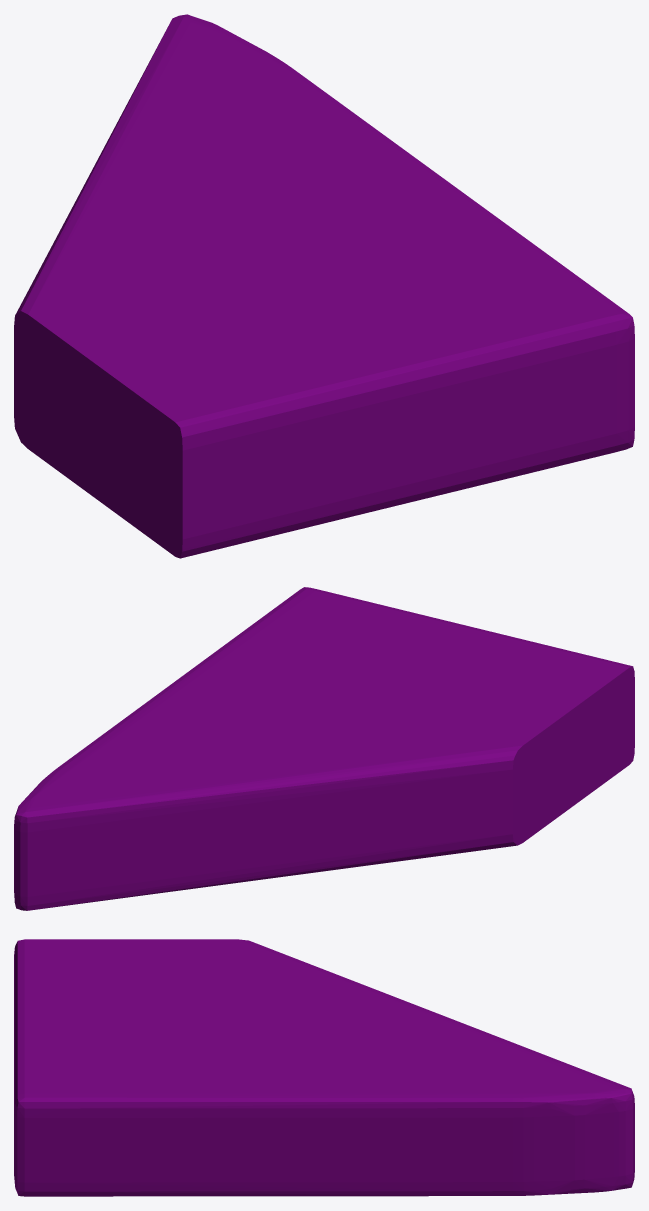
Rendered from left_hip_pitch_link_part_11.obj.
3 views of the same model, one above another, from view 1: azimuth 30°, elevation 25°; view 2: azimuth 150°, elevation 25°; view 3: azimuth 270°, elevation 25° (orthographic). The views are drawn at different scales.
Bounding box in the file's own units: 0.0617 × 0.0173 × 0.0999.
